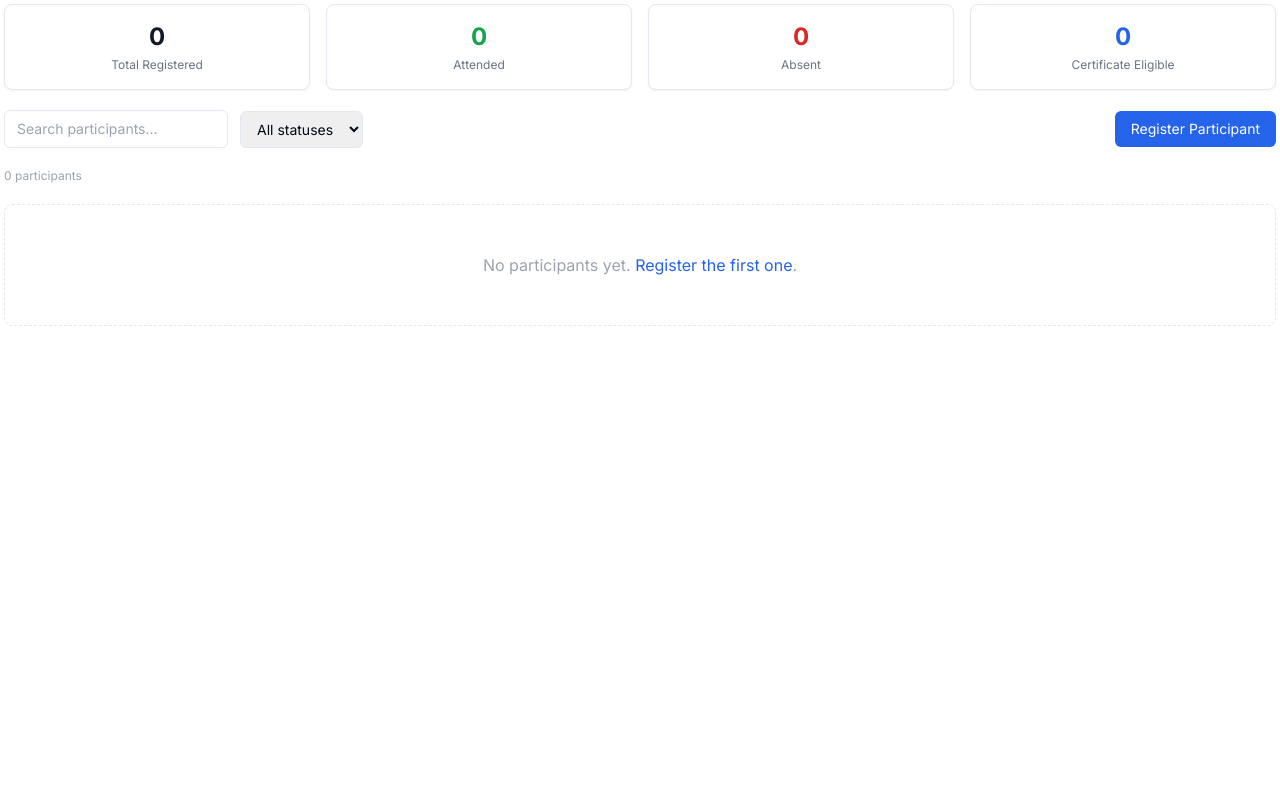
AttendanceCenter › Register participant dialog › clicking cancel button closes dialog
Click the button with test id "btn-register": (1195, 129) [1115,111,1276,147]
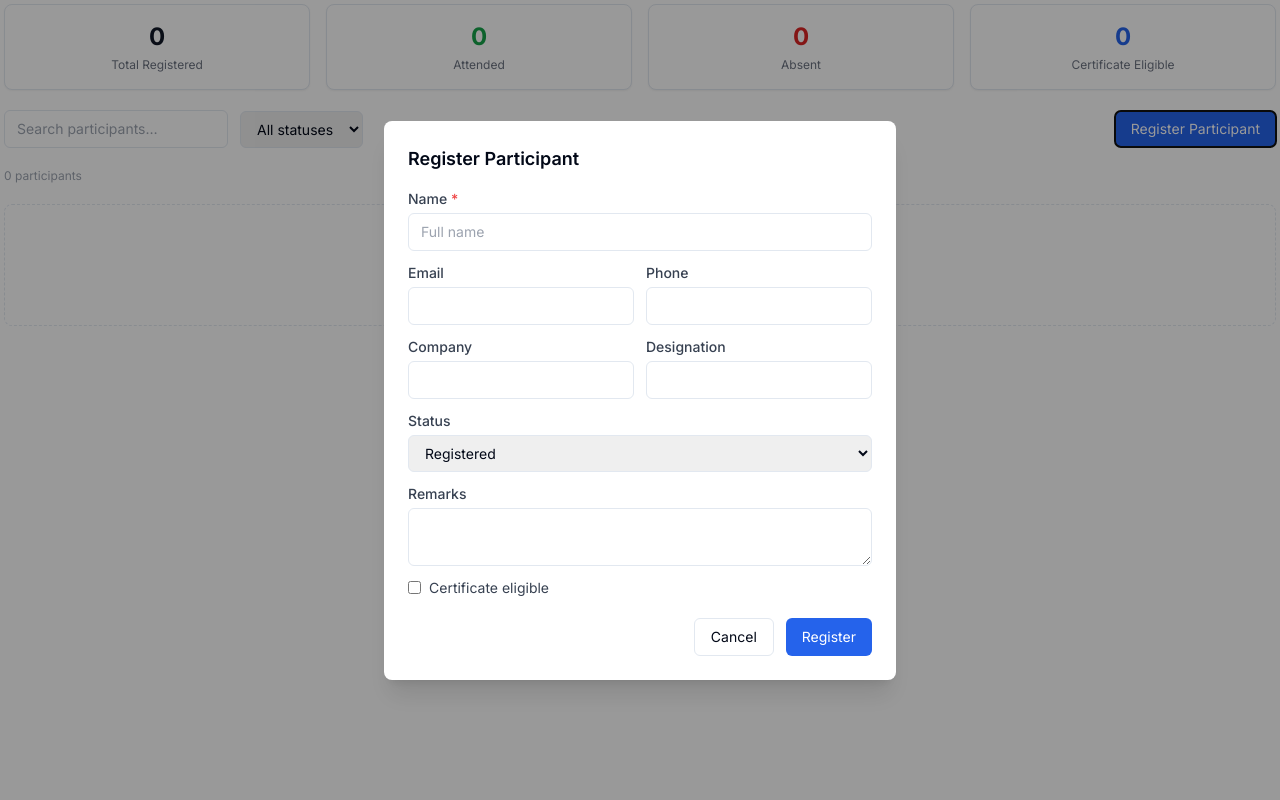
Click the button with test id "btn-cancel-register": (734, 636) [694,618,774,656]
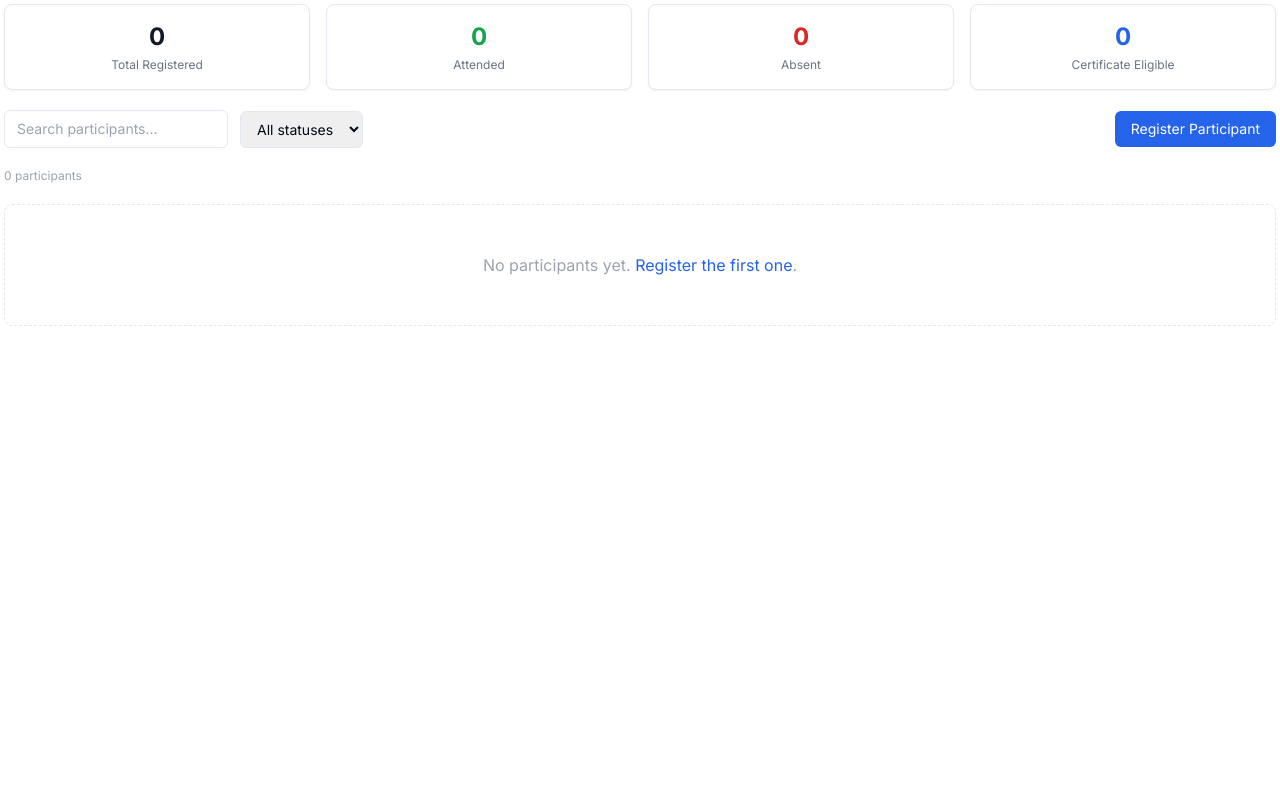
Check: the dialog with test id "register-dialog" is gone
